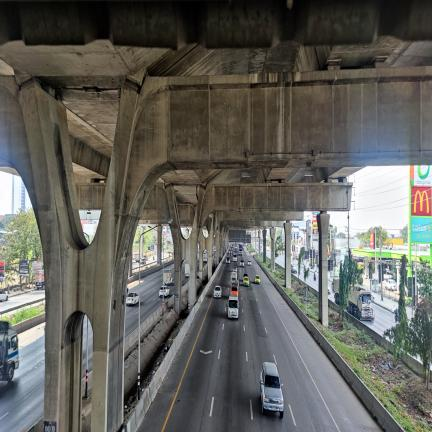car: (260, 362, 284, 418), (126, 292, 139, 306), (159, 286, 169, 298), (214, 285, 222, 298), (230, 286, 238, 297), (233, 253, 237, 262), (232, 266, 237, 272), (226, 256, 230, 263), (240, 260, 244, 267), (247, 260, 251, 266), (243, 273, 249, 277), (230, 249, 232, 254)
motorbike: (314, 273, 316, 281)
taxi: (243, 276, 250, 286), (255, 275, 261, 284)
truck: (228, 296, 239, 319), (163, 269, 173, 285), (230, 272, 238, 288), (185, 262, 190, 277), (203, 250, 208, 263), (233, 253, 237, 262), (239, 245, 242, 256)
truck trailer: (348, 286, 374, 320), (333, 278, 339, 305)
